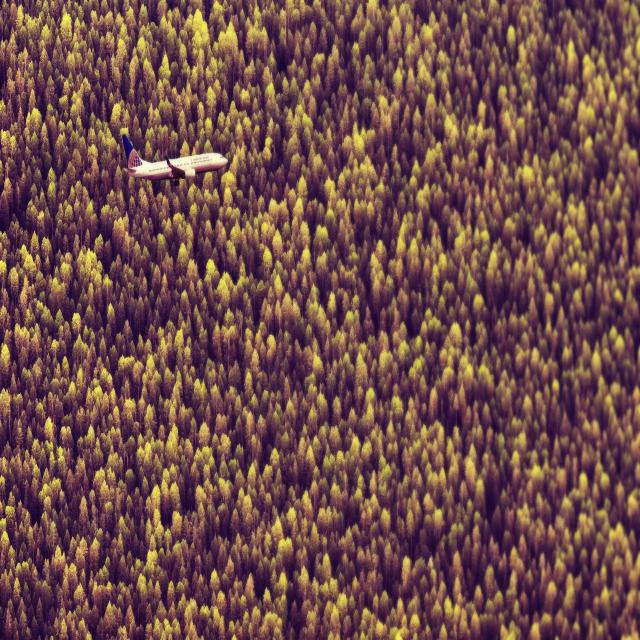airplane: (120, 132, 228, 186)
